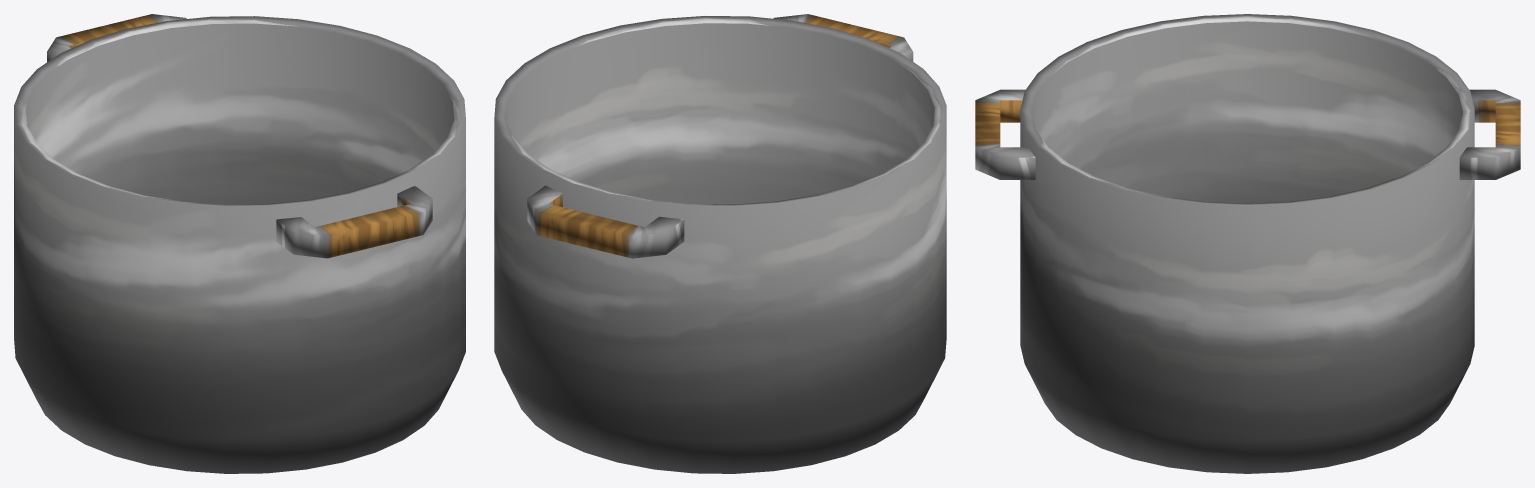
Rendered from SM_Marmite.fbx.
The picture shows the model from 3 angles, left to right: view 1: azimuth 30°, elevation 25°; view 2: azimuth 150°, elevation 25°; view 3: azimuth 270°, elevation 25°; orthographic projection.
Visible parts, largest first — view 1: Marmite; view 2: Marmite; view 3: Marmite.
Boxes of the visible parts, x1,y1,x2,y2 form: Marmite: (14,14,465,473); Marmite: (494,14,946,473); Marmite: (975,14,1520,473).
Size of the model in its own units: 19.51 by 13.1 by 23.39.
